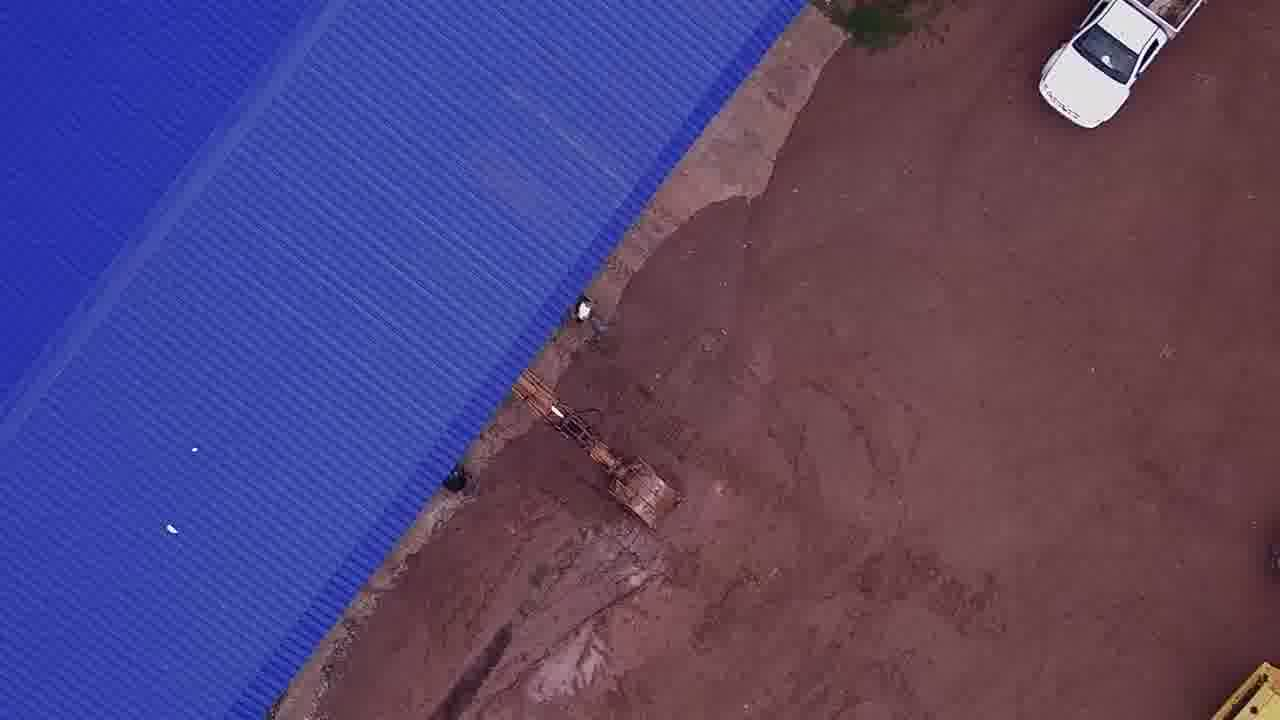LMV: (1034, 1, 1206, 141)
Person: (574, 293, 598, 324)
